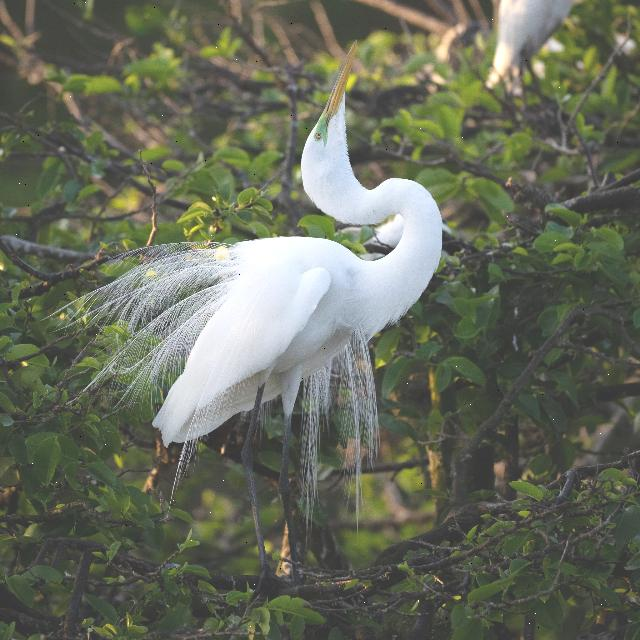egret: (87, 39, 451, 583)
